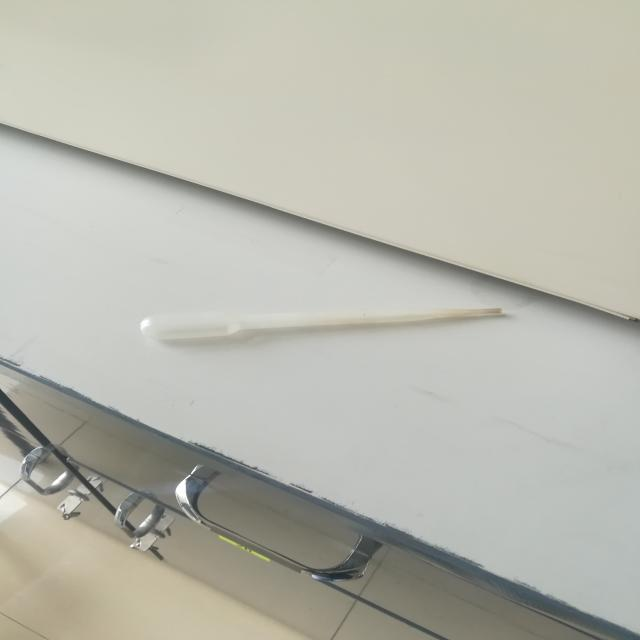Pipette: (100, 254, 532, 384)
